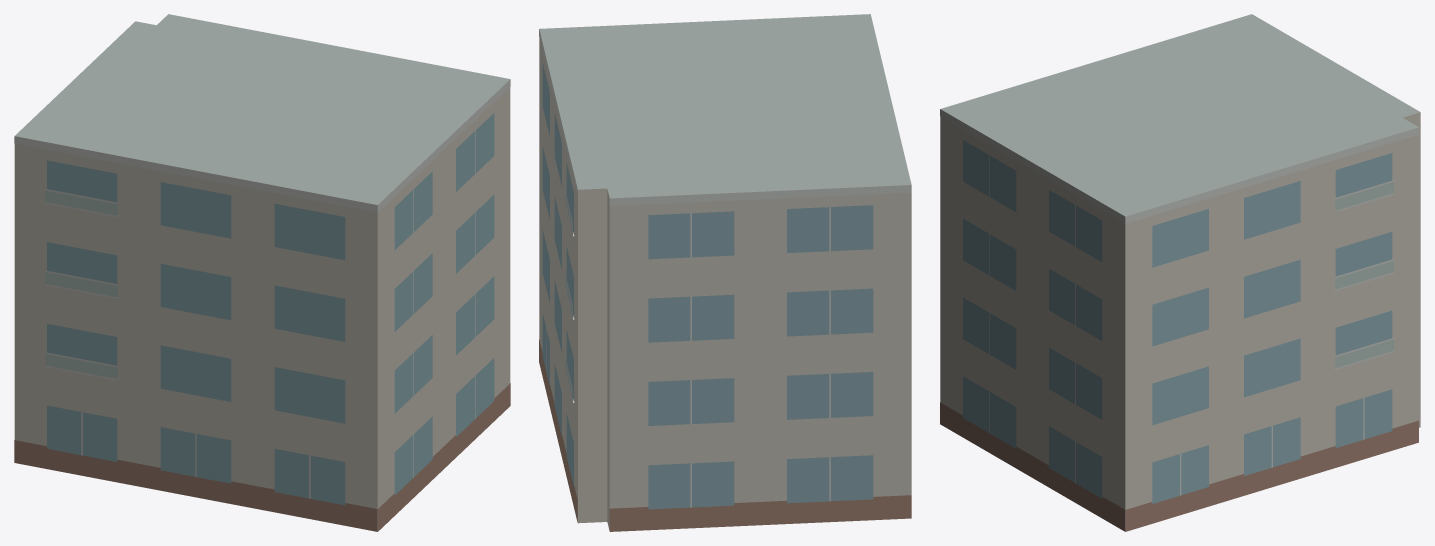
Rendered from survey-upis-32683453.glb.
The picture shows the model from 3 angles, left to right: view 1: azimuth 30°, elevation 25°; view 2: azimuth 150°, elevation 25°; view 3: azimuth 270°, elevation 25°; orthographic projection. The views are drawn at different scales.
Visible parts, largest first — view 1: survey-upis-32683453.tmp; view 2: survey-upis-32683453.tmp; view 3: survey-upis-32683453.tmp.
Part boxes in pixels (left/top/right/bottom): survey-upis-32683453.tmp: left=14, top=14, right=510, bottom=531; survey-upis-32683453.tmp: left=539, top=14, right=911, bottom=531; survey-upis-32683453.tmp: left=940, top=14, right=1420, bottom=531.
Size of the model in its own units: 14.69 by 10.65 by 14.72.
